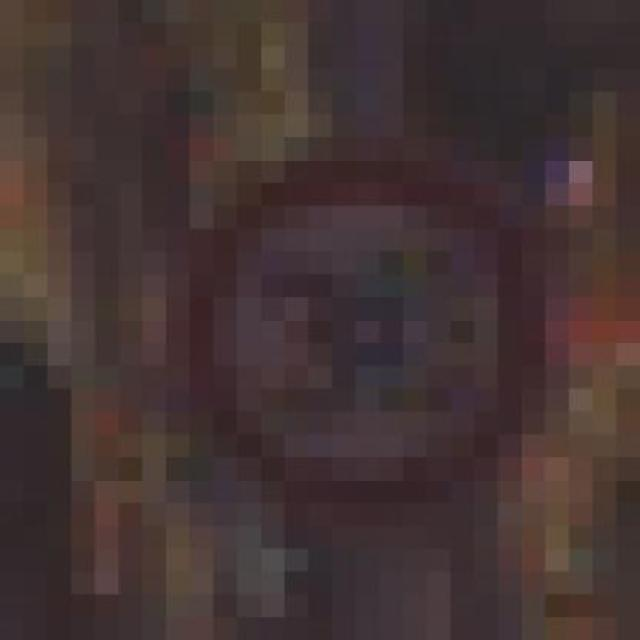Speed Limit 30 KMPh: (118, 160, 592, 526)
